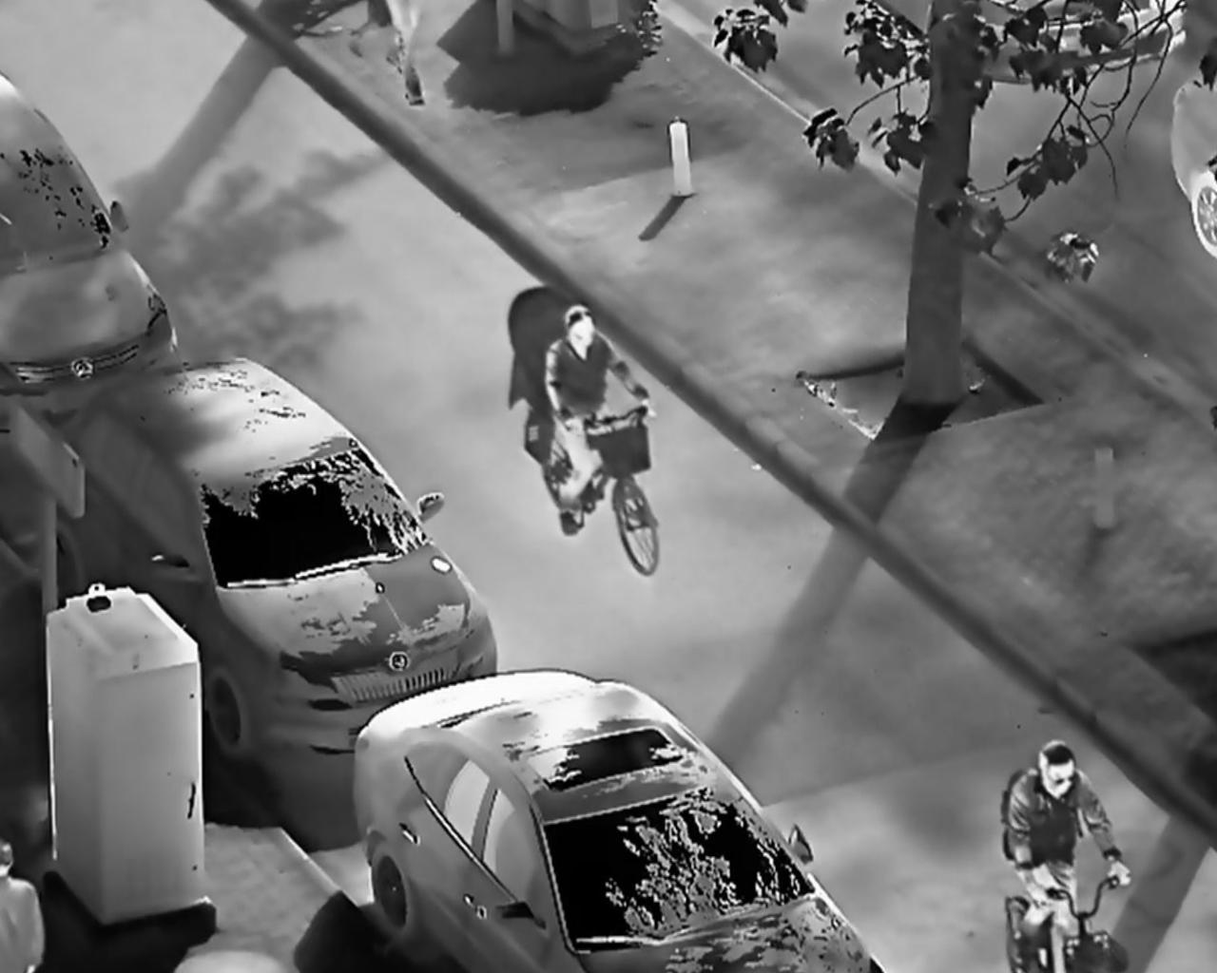person: (998, 738, 1131, 957), (541, 303, 660, 531)
